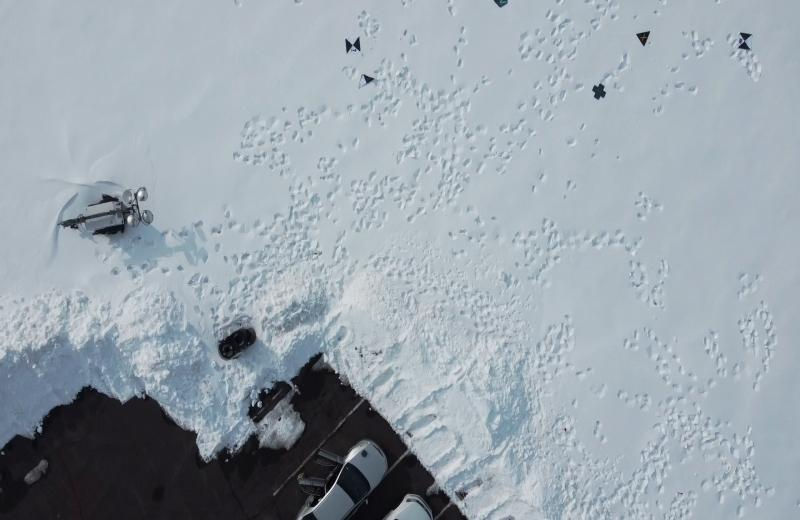Cross: (591, 81, 609, 100)
Triangle: (634, 31, 652, 48)
